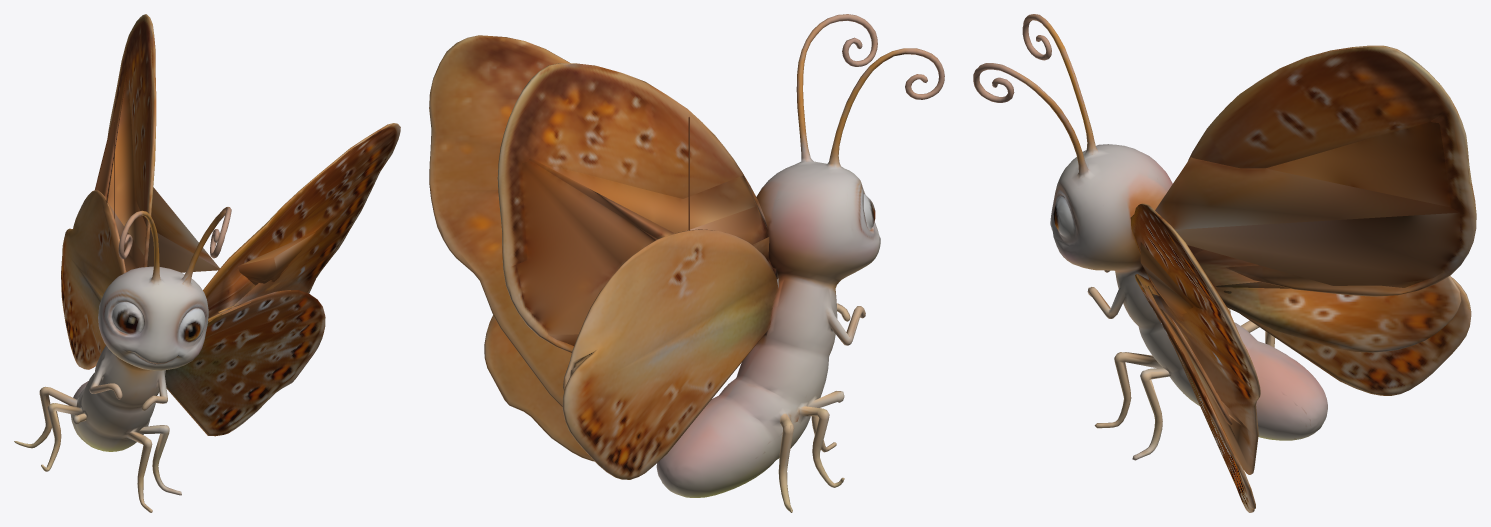
File: Papallona.glb
3 renders of one model, left to right at view 1: azimuth 30°, elevation 25°; view 2: azimuth 150°, elevation 25°; view 3: azimuth 270°, elevation 25°, orthographic. The views are drawn at different scales.
Visible parts, largest first — view 1: material; view 2: material; view 3: material.
Boxes of the visible parts, <box> form: material: <box>14,14,400,512</box>; material: <box>429,14,944,512</box>; material: <box>973,14,1476,512</box>.
Bounding box in the file's own units: 1.83 × 1.9 × 1.9.
1 material, 1 textured.
